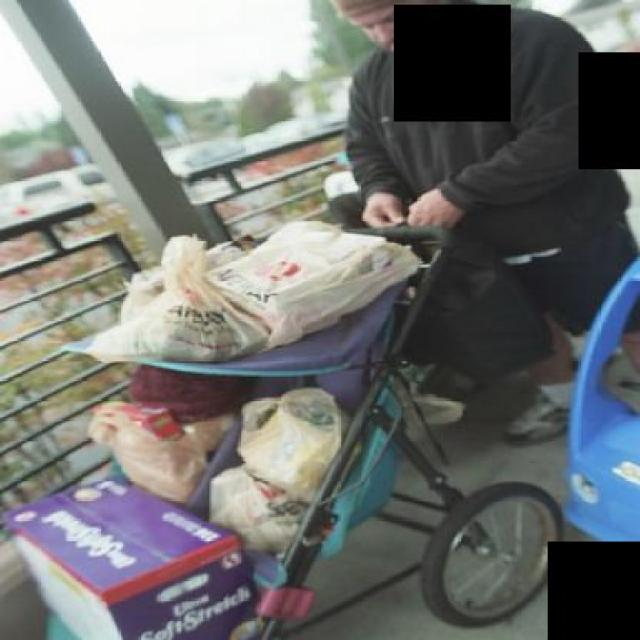plastic bag: (77, 212, 425, 365), (83, 386, 392, 546)
